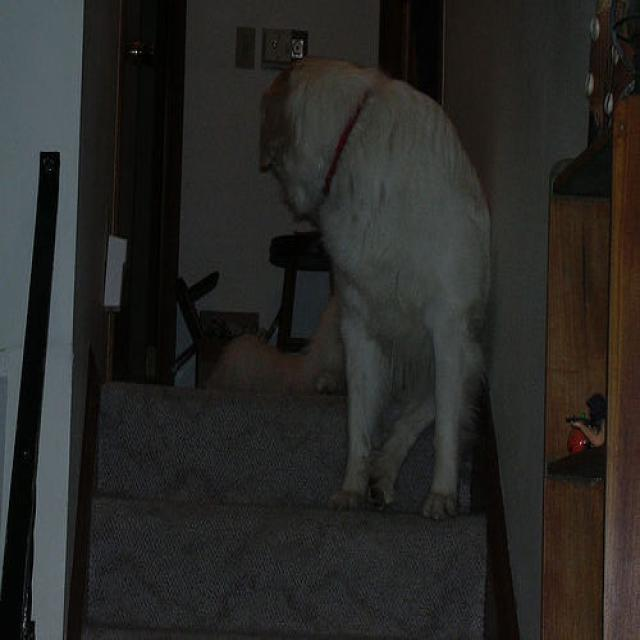Dog: (232, 37, 598, 541)
